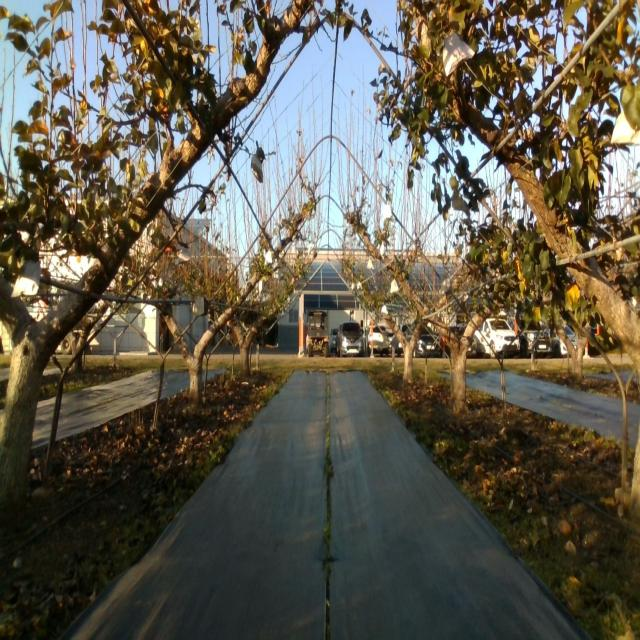pearbags: (442, 32, 475, 78), (11, 260, 40, 298), (611, 109, 640, 143), (251, 155, 263, 183), (175, 246, 192, 263), (452, 193, 467, 212), (442, 277, 453, 297)
